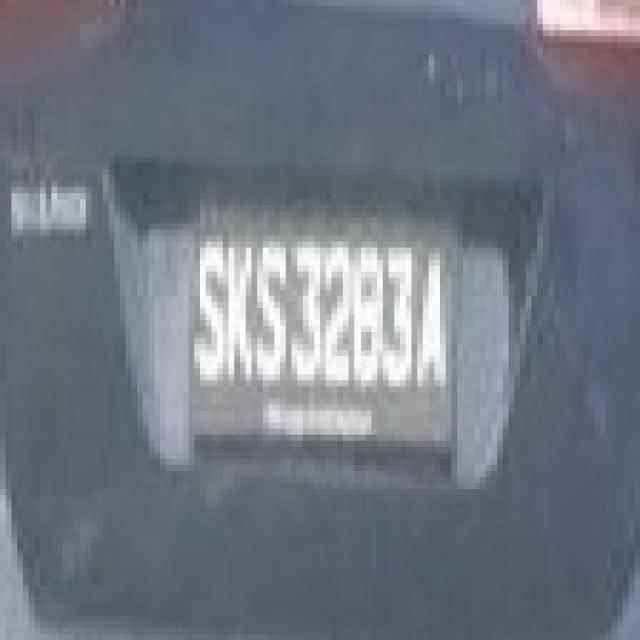2: (325, 242, 351, 385)
3: (294, 241, 321, 388), (383, 245, 410, 392)
8: (355, 245, 381, 387)
A: (414, 250, 447, 388)
K: (225, 239, 255, 386)
S: (257, 242, 286, 381), (195, 236, 221, 388)
